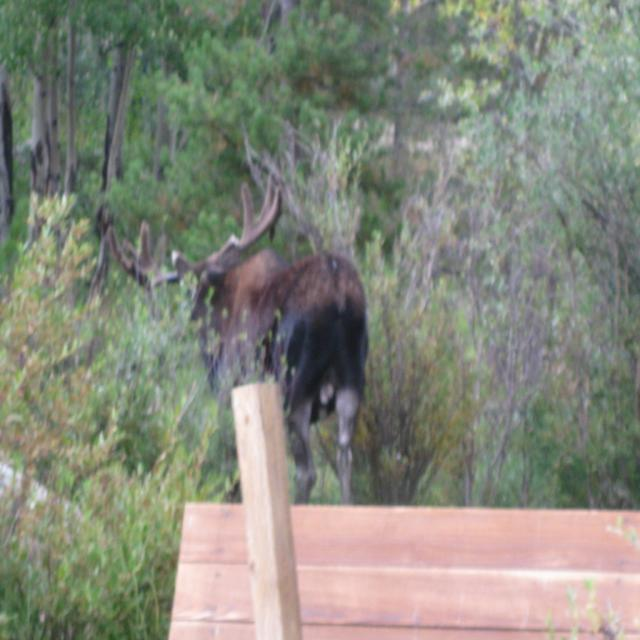Deer: (110, 172, 368, 503)
